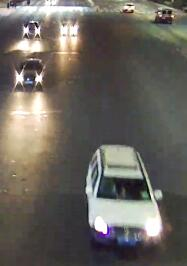car: (85, 144, 164, 247), (14, 57, 45, 87), (59, 14, 79, 36), (154, 6, 176, 21), (23, 19, 41, 36), (122, 1, 136, 13)
